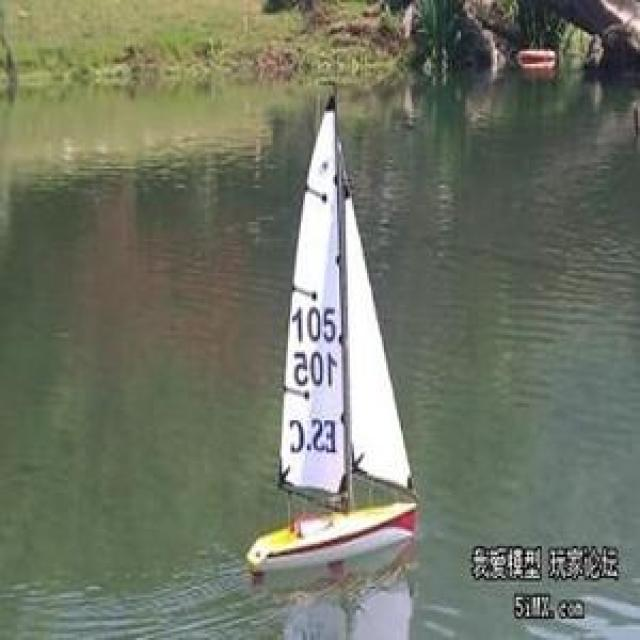sailboat: (219, 90, 442, 575)
